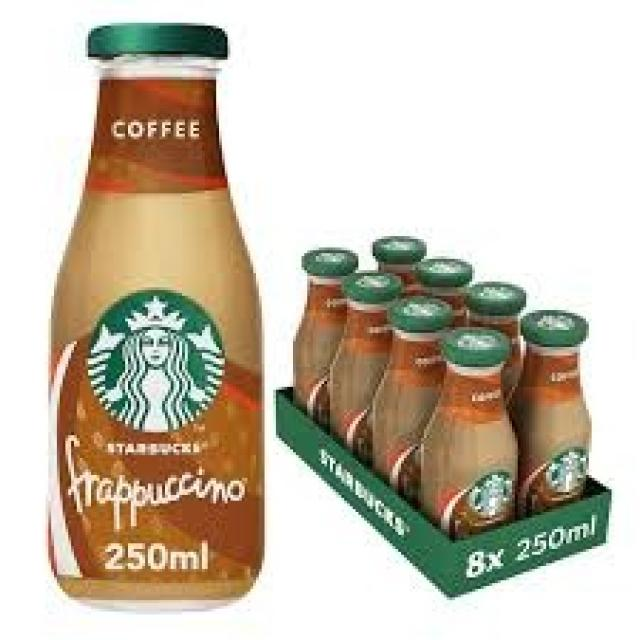starbucks: (83, 286, 230, 426), (470, 464, 513, 517)
